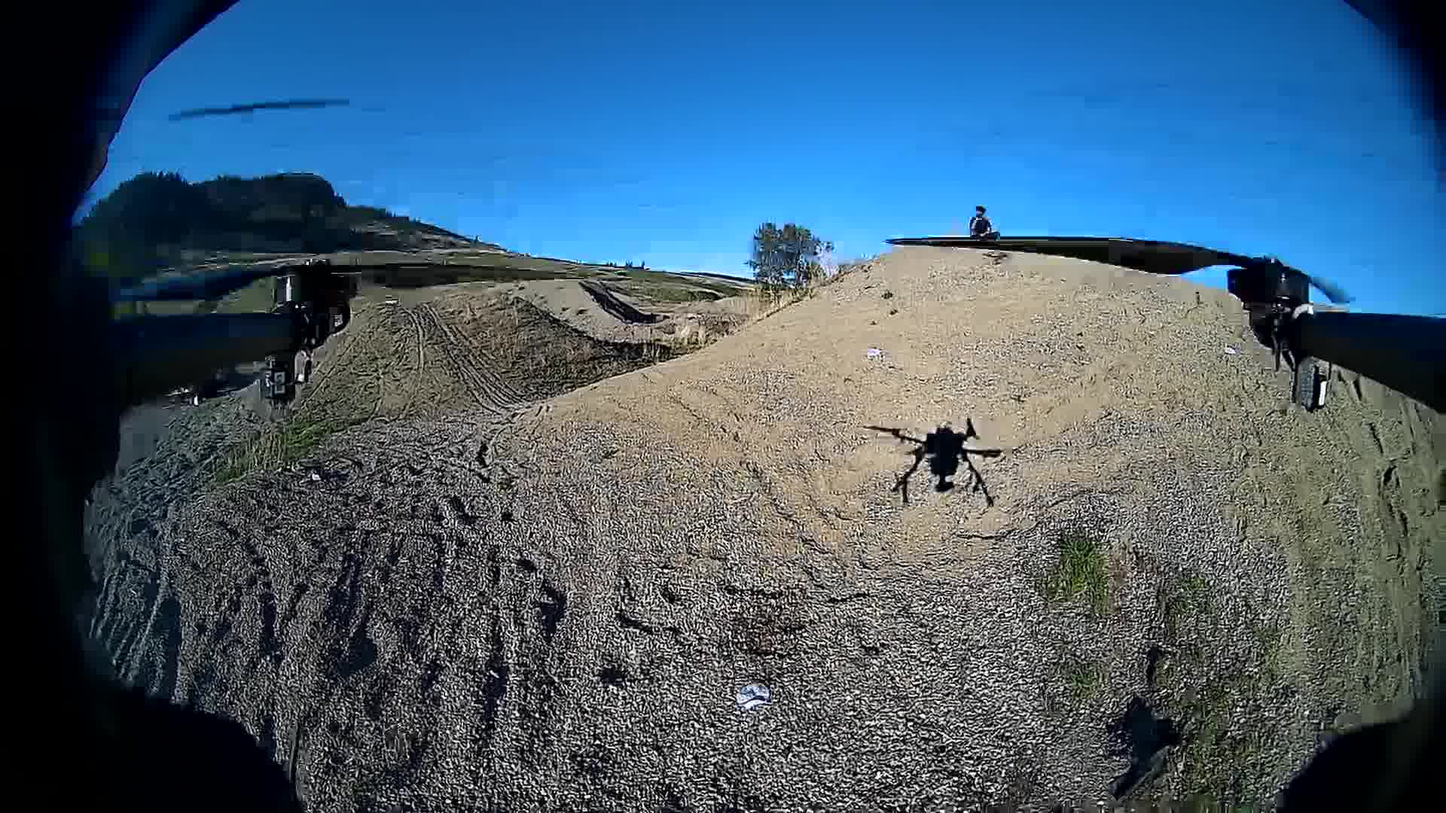Target: (736, 681, 772, 708)
